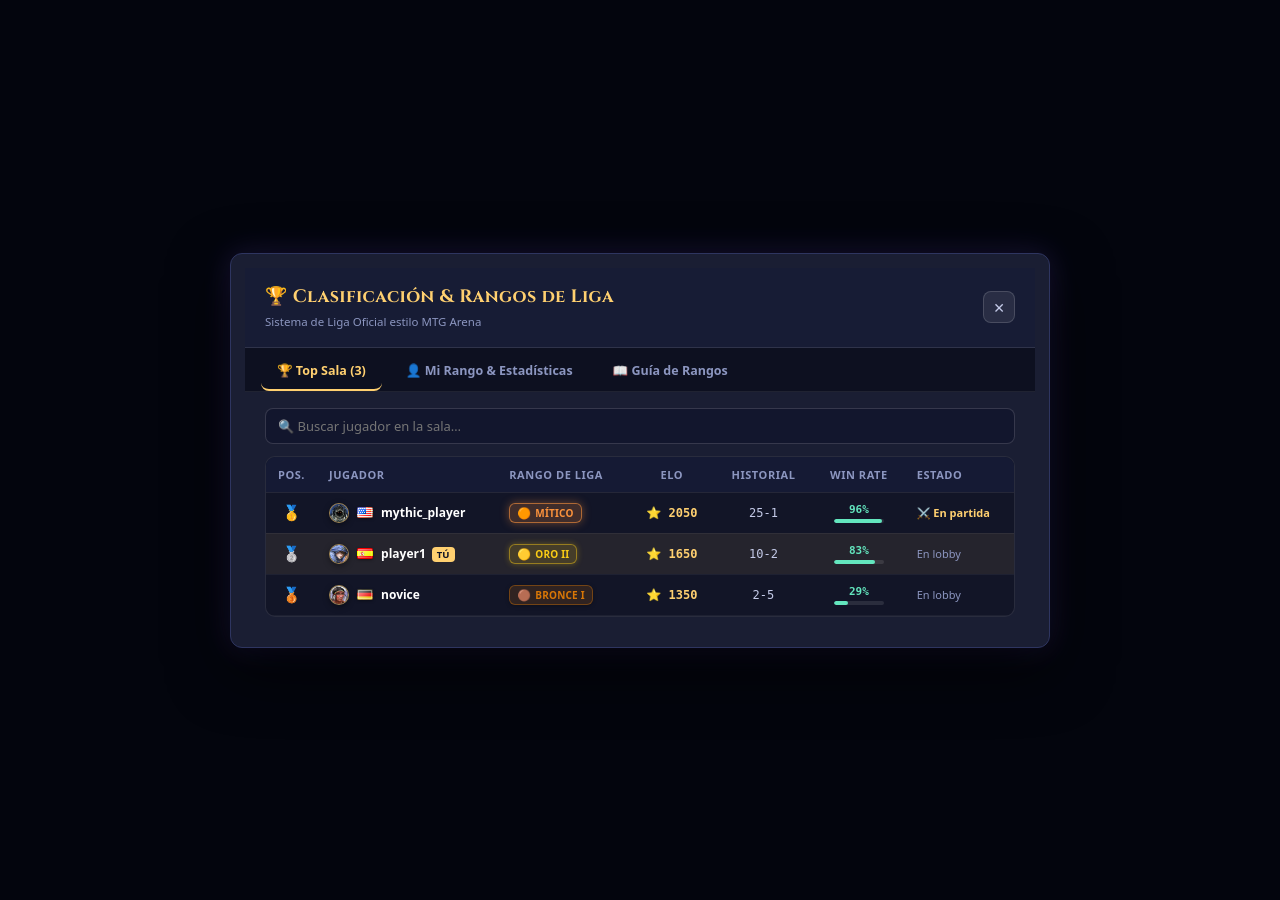
Test: LeaderboardModal Component › switches between tabs: profile and tiers guide
Switch to profile tab
Click the button "👤 Mi Rango & Estadísticas": coordinates (489, 371) 390,352 -> 589,390
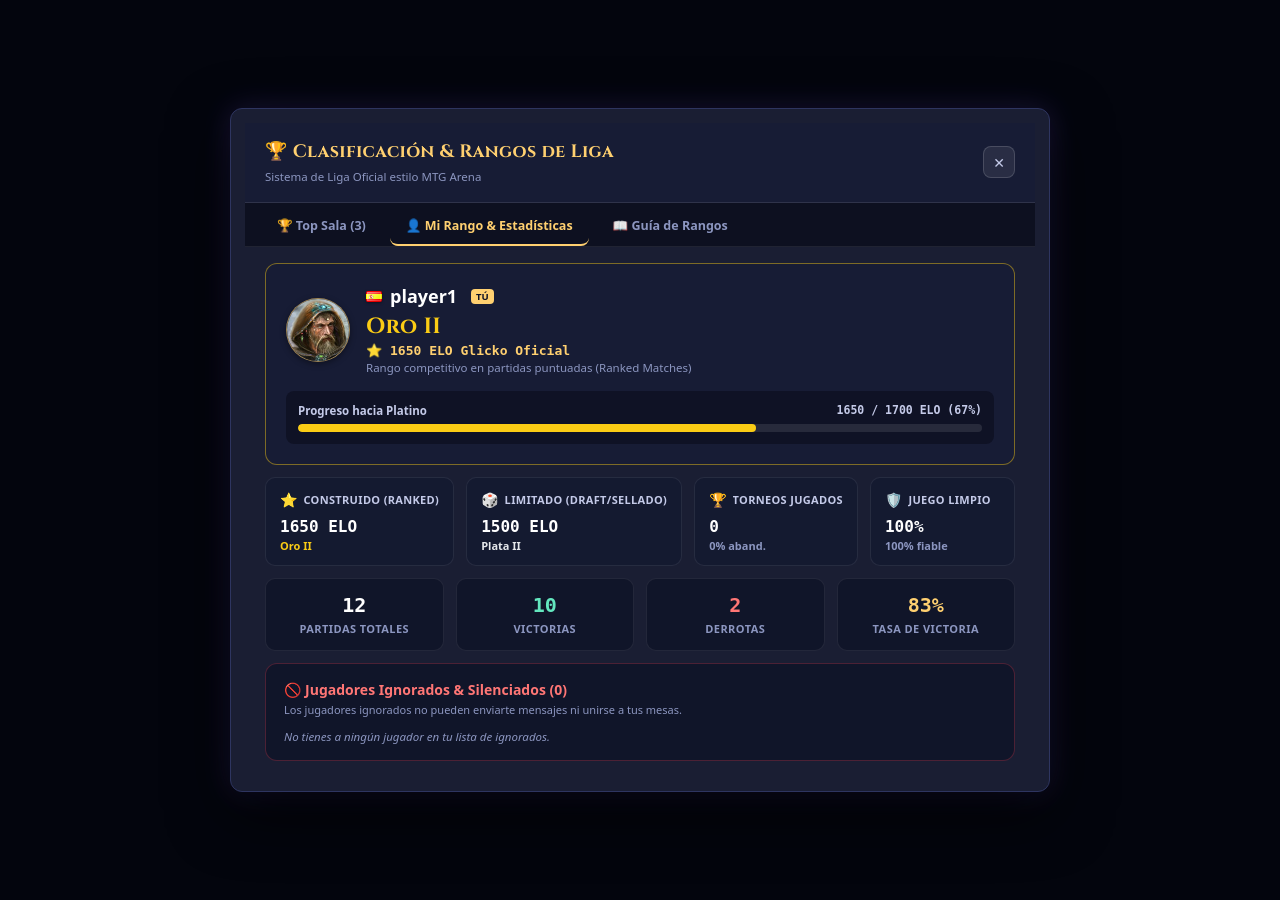
expect the text "⭐ 1650 ELO Glicko Oficial" is shown: met, box 366,343 -> 570,358
expect the text "Oro II" below "player1" is shown: met, box 366,312 -> 441,341
Switch to tiers guide tab
Click the button "📖 Guía de Rangos": coordinates (670, 226) 597,207 -> 744,246
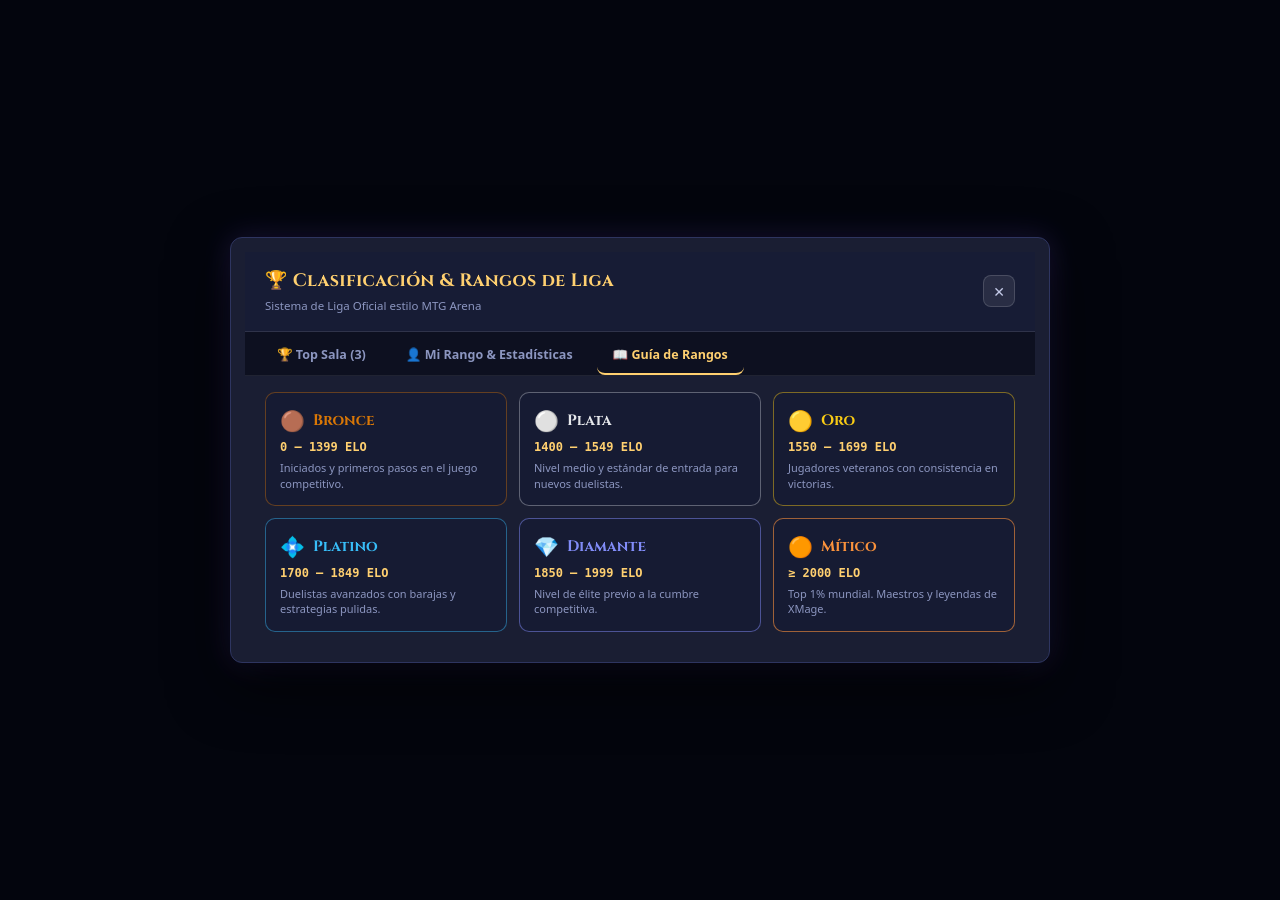
expect the text "Bronce" is shown: met, box 313,410 -> 374,431
expect the text "Mítico" is shown: met, box 821,536 -> 877,557
